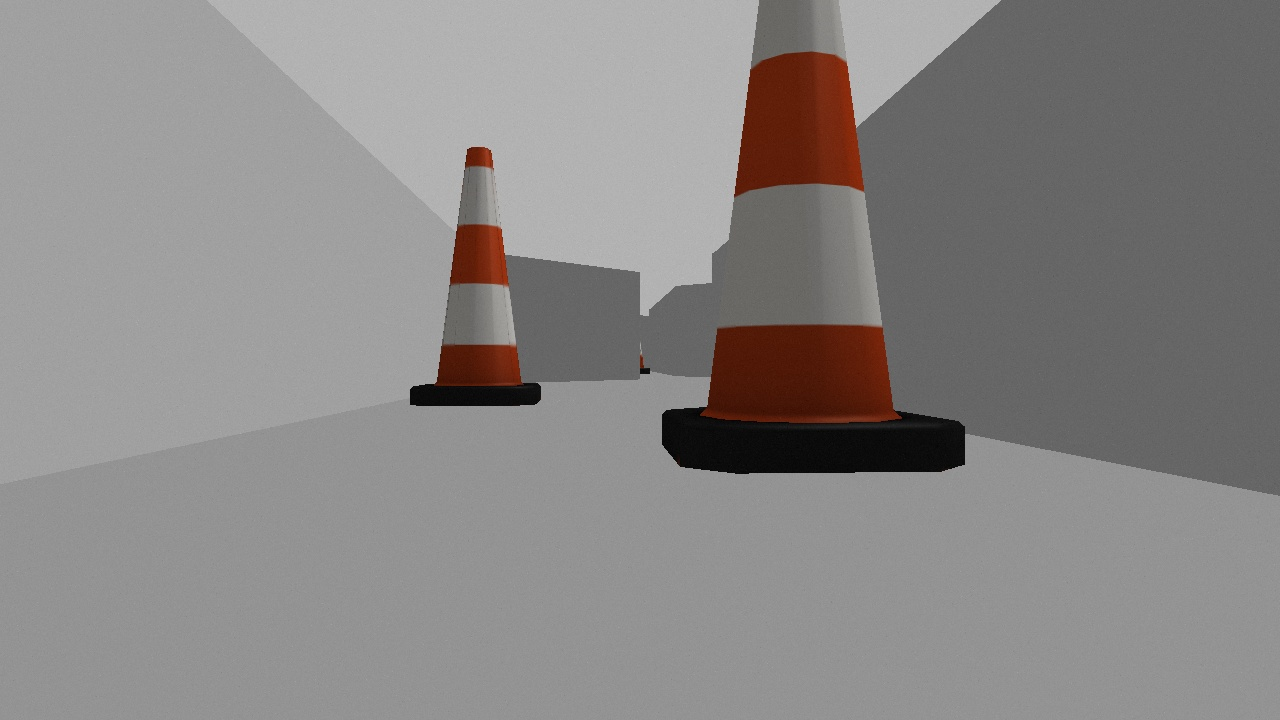barricade: (661, 1, 965, 473), (409, 145, 540, 406)
